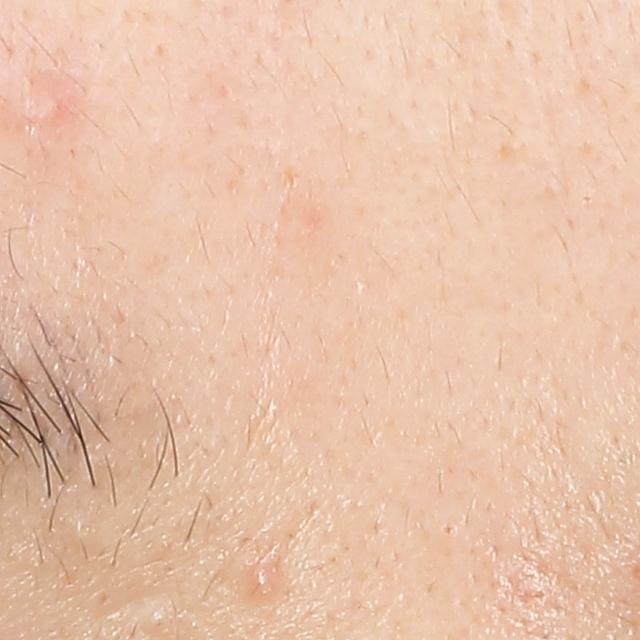comedo: (144, 609, 170, 633)
papule: (21, 72, 85, 143), (248, 563, 275, 596)
